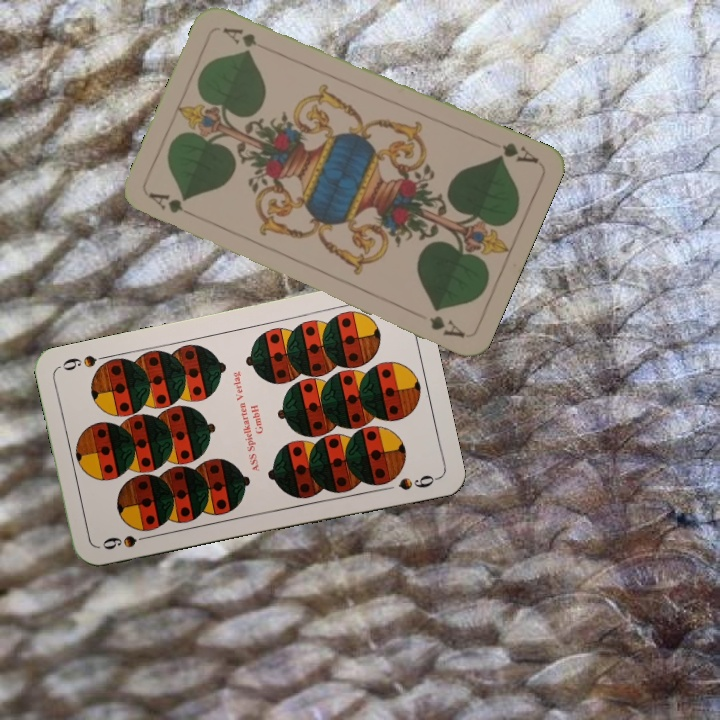GA: (145, 188, 201, 221), (492, 138, 541, 167)
S9: (98, 530, 156, 552)
